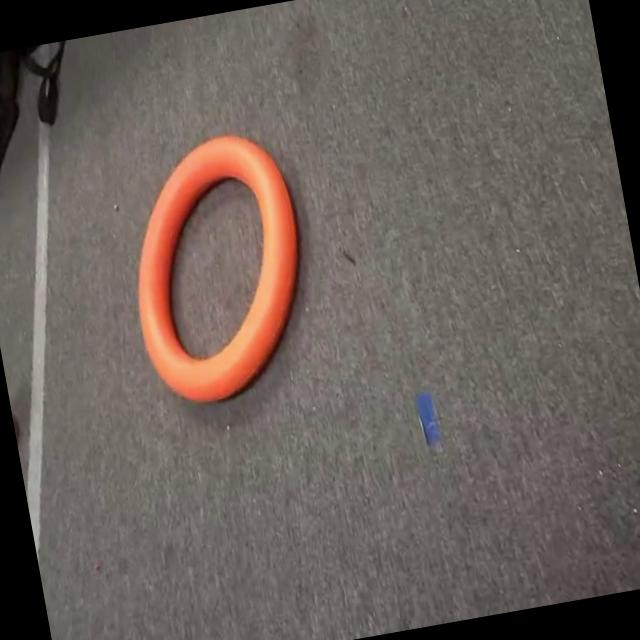note: (100, 114, 344, 421)
